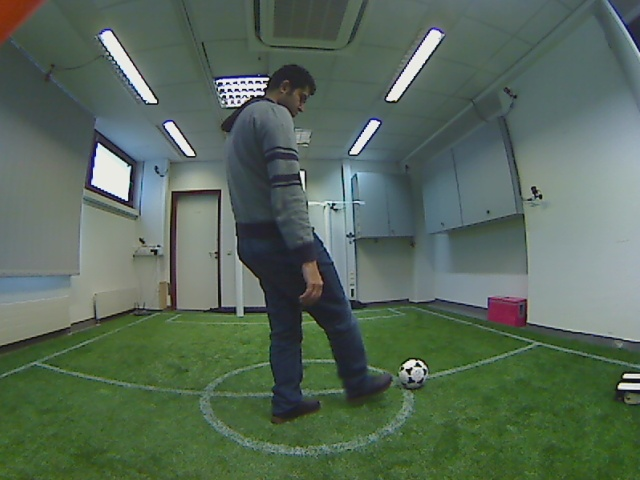ball: (393, 353, 433, 393)
